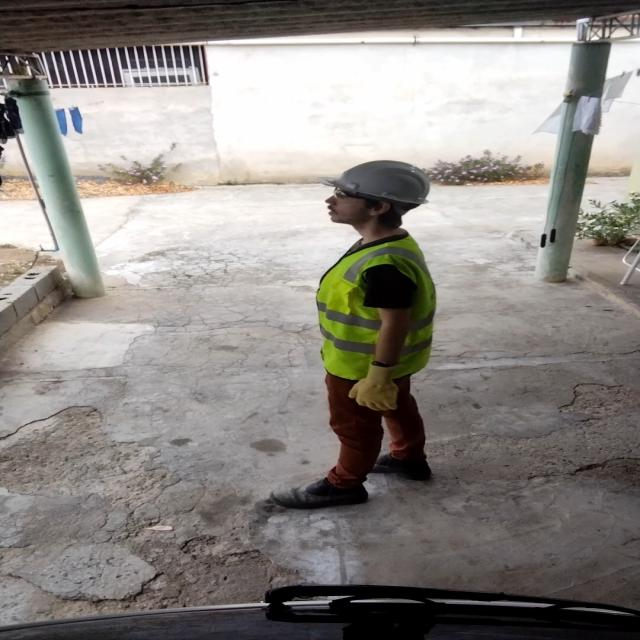glove: (341, 357, 407, 409)
helmet: (328, 158, 438, 208)
pants: (316, 378, 437, 478)
vest: (307, 235, 440, 377)
